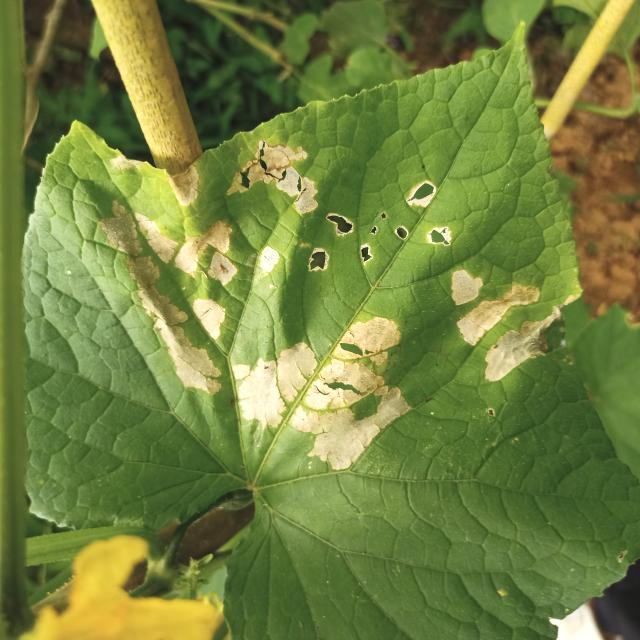disease_cucumber: (103, 144, 563, 470)
